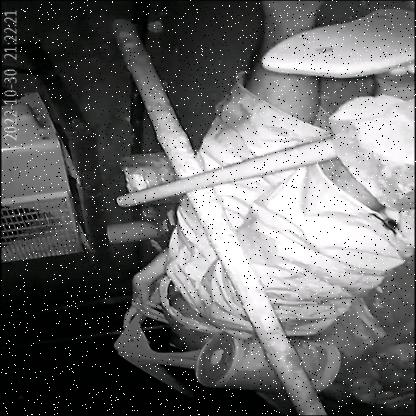hand: (103, 252, 188, 332)
